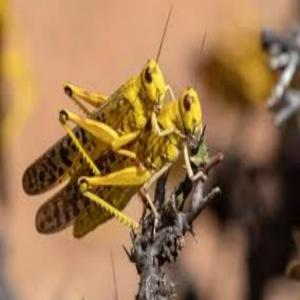locust: (81, 100, 219, 249), (27, 53, 170, 193)
